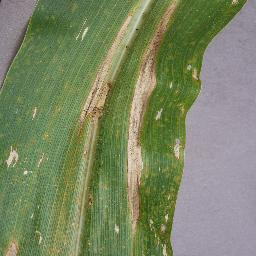Corn_Blight: (121, 4, 173, 256), (82, 6, 134, 125), (171, 47, 201, 185), (2, 138, 44, 180), (76, 173, 102, 220), (61, 13, 93, 47), (2, 230, 25, 255), (25, 98, 43, 122), (34, 224, 48, 248)
